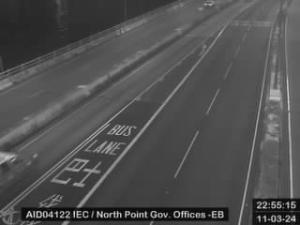vehicle: (0, 149, 39, 197)
